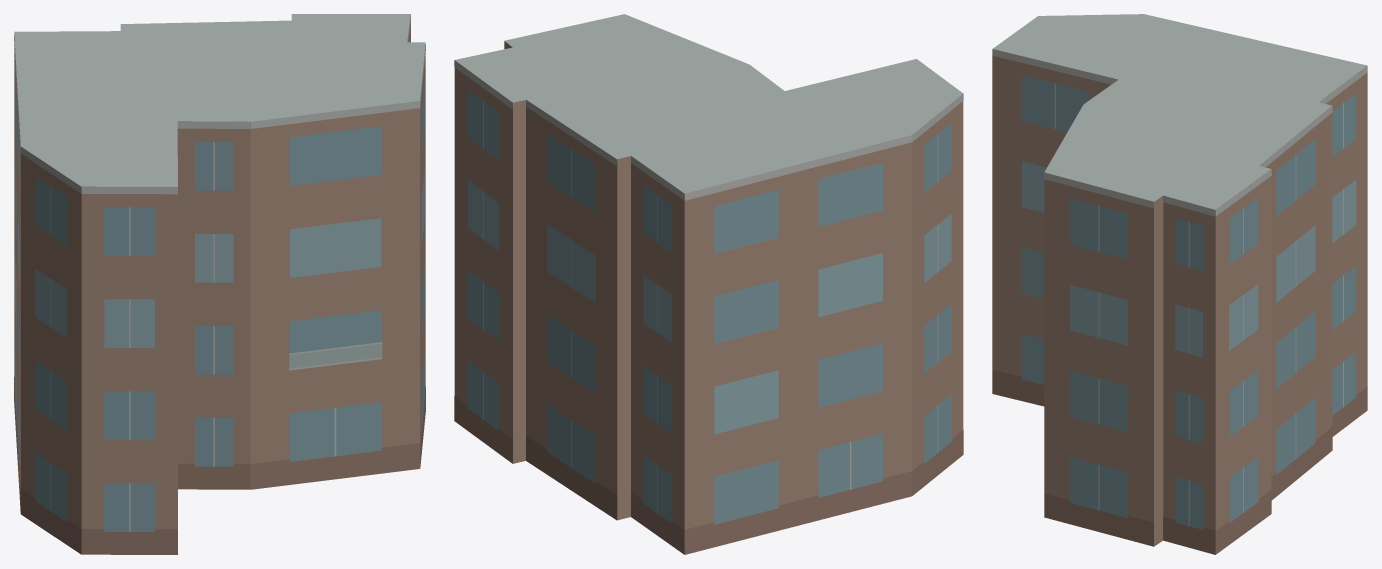
Rendered from survey-upis-32470903.glb.
3 views of the same model, side by side, from view 1: azimuth 30°, elevation 25°; view 2: azimuth 150°, elevation 25°; view 3: azimuth 270°, elevation 25° (orthographic). The views are drawn at different scales.
Parts seen in each view (by area): view 1: survey-upis-32470903.tmp; view 2: survey-upis-32470903.tmp; view 3: survey-upis-32470903.tmp.
Boxes of the visible parts, x1,y1,x2,y2 form: survey-upis-32470903.tmp: [14, 14, 425, 554]; survey-upis-32470903.tmp: [454, 14, 963, 554]; survey-upis-32470903.tmp: [992, 14, 1367, 554].
Size of the model in its own units: 15.17 by 12.45 by 12.28.
